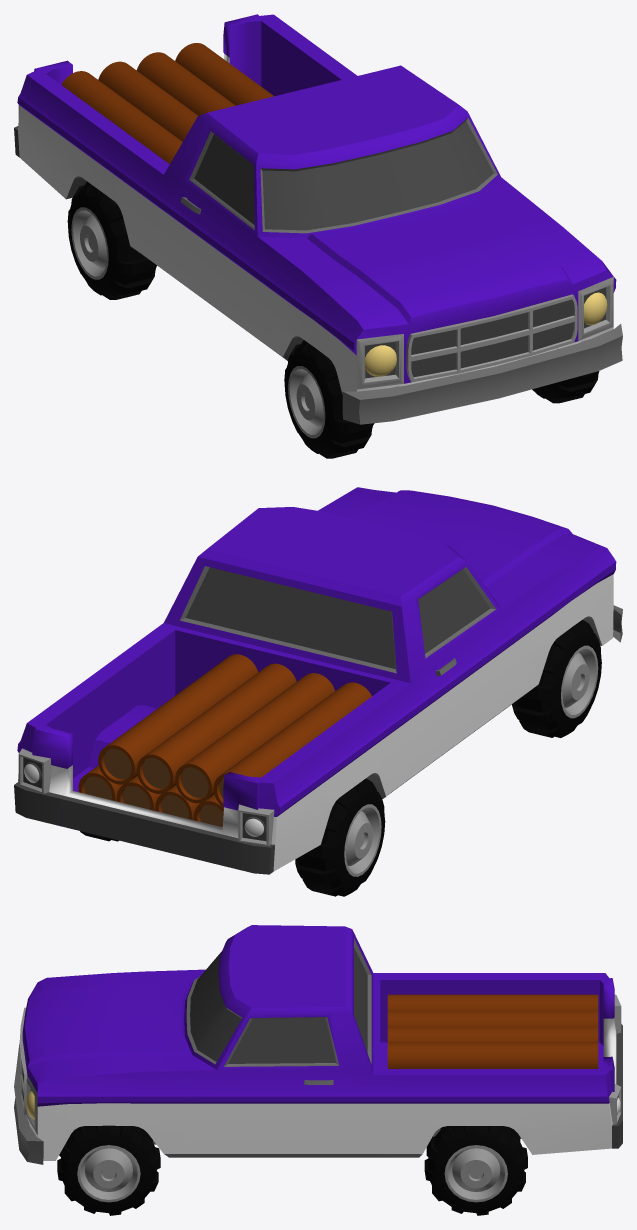
Rendered from Pickup.fbx.
The picture shows the model from 3 angles, top to bottom: view 1: azimuth 30°, elevation 25°; view 2: azimuth 150°, elevation 25°; view 3: azimuth 270°, elevation 25°; orthographic projection. The views are drawn at different scales.
Parts seen in each view (by area): view 1: Pickup_Truck; view 2: Pickup_Truck; view 3: Pickup_Truck.
Boxes of the visible parts, x1,y1,x2,y2 form: Pickup_Truck: (14,14,622,458); Pickup_Truck: (14,487,622,896); Pickup_Truck: (14,925,622,1215).
Size of the model in its own units: 231 by 185 by 516.
